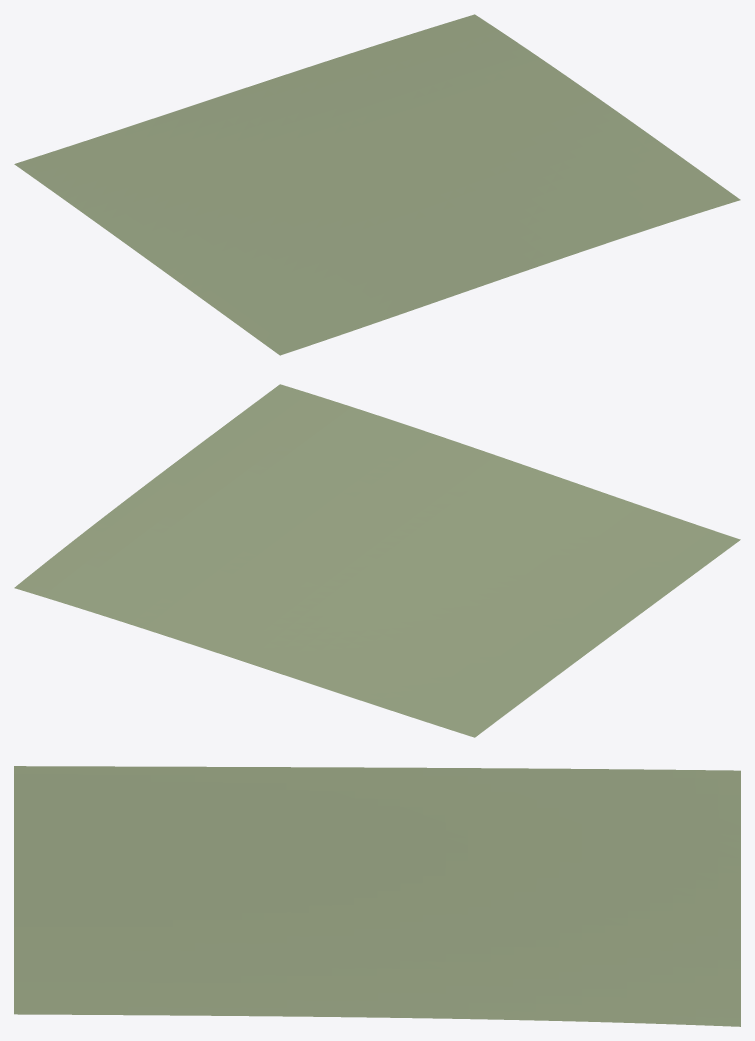
File: valley-14-10.glb
3 renders of one model, top to bottom at view 1: azimuth 30°, elevation 25°; view 2: azimuth 150°, elevation 25°; view 3: azimuth 270°, elevation 25°, orthographic. The views are drawn at different scales.
Parts seen in each view (by area): view 1: valley-14-10; view 2: valley-14-10; view 3: valley-14-10.
Boxes of the visible parts, <box> form: valley-14-10: <box>14,14,740,355</box>; valley-14-10: <box>14,384,740,737</box>; valley-14-10: <box>14,766,740,1026</box>.
Size of the model in its own units: 256 by 24.62 by 256.
